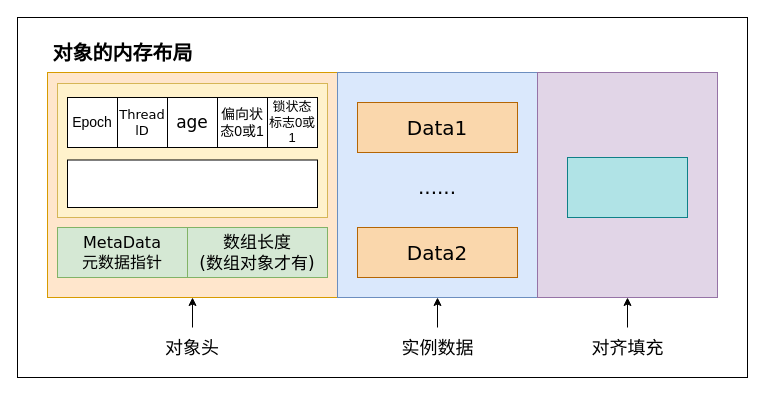
The diagram is 765 pixels wide and 395 high, and some of its shapes have lost their labels. Here are the shapes that lost their labels. From the top down, the centre of each, then its label:
At point (192, 183): "对象的HashCode".
At point (627, 187): "对齐填充 (选填)".
